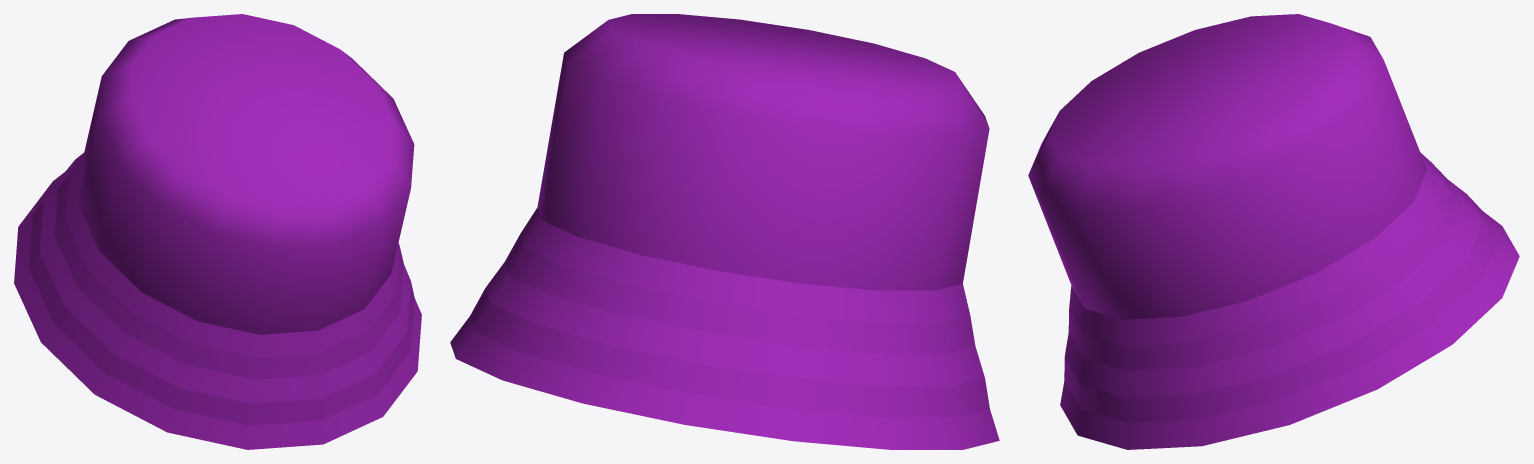
The model's file is sunhat_basic.glb.
3 views of the same model, side by side, from view 1: azimuth 30°, elevation 25°; view 2: azimuth 150°, elevation 25°; view 3: azimuth 270°, elevation 25° (orthographic). The views are drawn at different scales.
Visible parts, largest first — view 1: 0.128; view 2: 0.128; view 3: 0.128.
Boxes of the visible parts, box(x1,y1,x2,y2) form: 0.128: box(14, 14, 421, 449); 0.128: box(450, 14, 999, 449); 0.128: box(1028, 14, 1519, 449).
Bounding box in the file's own units: 0.4889 × 0.4386 × 0.539.
